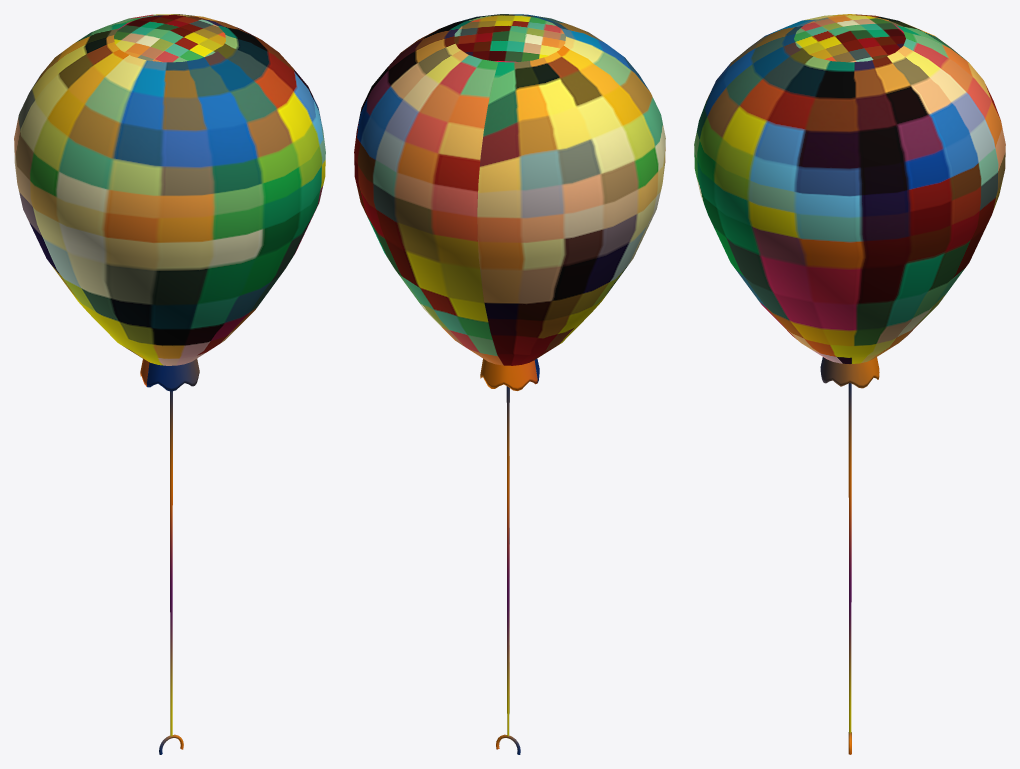
File: Balloon001.fbx
3 views of the same model, side by side, from view 1: azimuth 30°, elevation 25°; view 2: azimuth 150°, elevation 25°; view 3: azimuth 270°, elevation 25° (orthographic).
Parts seen in each view (by area): view 1: Balloon001; view 2: Balloon001; view 3: Balloon001.
Part boxes in pixels (<box>): Balloon001: <box>14,14,325,754</box>; Balloon001: <box>354,14,665,754</box>; Balloon001: <box>694,14,1005,754</box>.
Bounding box in the file's own units: 24.68 × 62.71 × 24.68.
